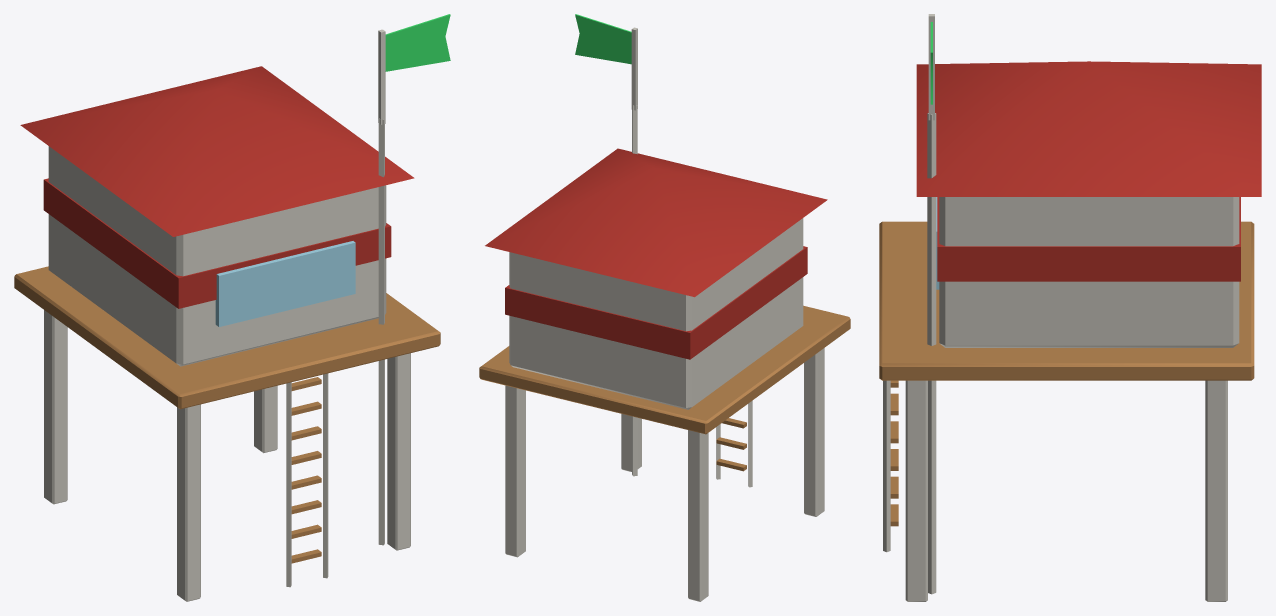
File: 142_poste_secours.fbx
3 renders of one model, left to right at view 1: azimuth 30°, elevation 25°; view 2: azimuth 150°, elevation 25°; view 3: azimuth 270°, elevation 25°, orthographic. The views are drawn at different scales.
Visible parts, largest first — view 1: Poste, Drapeau; view 2: Poste, Drapeau; view 3: Poste.
Part boxes in pixels (box(x1,y1,x2,y2)): Poste: box(14, 29, 440, 601); Drapeau: box(385, 14, 450, 71); Poste: box(479, 27, 850, 601); Drapeau: box(575, 14, 631, 64); Poste: box(879, 14, 1261, 601).
Bounding box in the file's own units: 1.68 × 2.8 × 1.68.
1 material, 1 textured.
